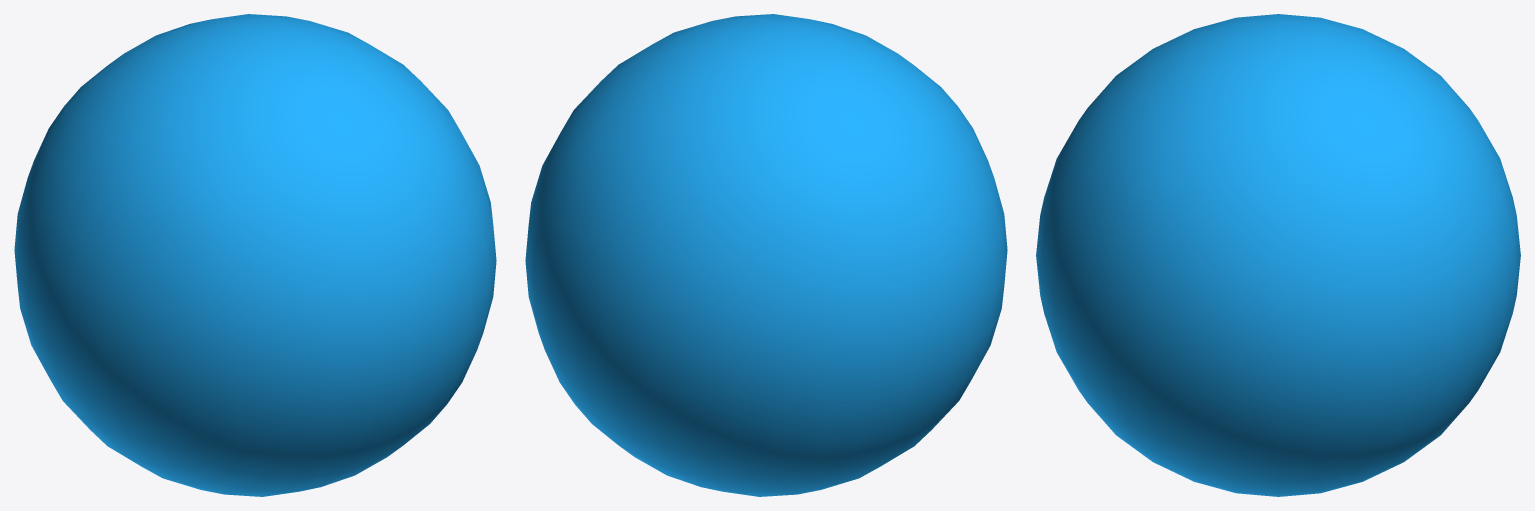
Rendered from ap boost.fbx.
The picture shows the model from 3 angles, left to right: view 1: azimuth 30°, elevation 25°; view 2: azimuth 150°, elevation 25°; view 3: azimuth 270°, elevation 25°; orthographic projection.
Visible parts, largest first — view 1: Plane.002; view 2: Plane.002; view 3: Plane.002.
Part boxes in pixels (x1,y1,x2,y2): Plane.002: (14, 14, 496, 496); Plane.002: (525, 14, 1007, 496); Plane.002: (1036, 14, 1520, 496).
Bounding box in the file's own units: 8.96 × 8.96 × 8.96.
Materials: 2 (2 with a texture image).
